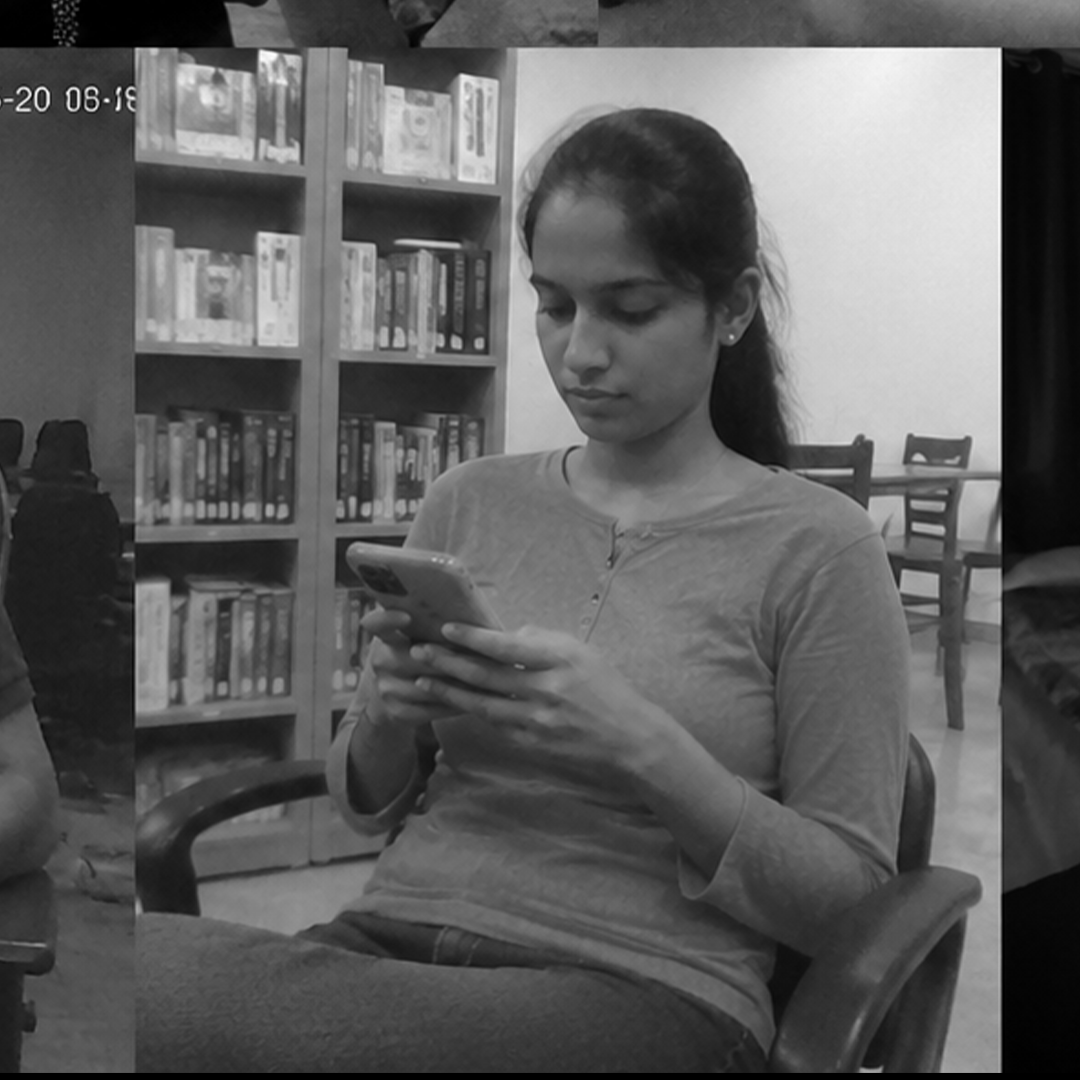distracted: (280, 90, 916, 785)
